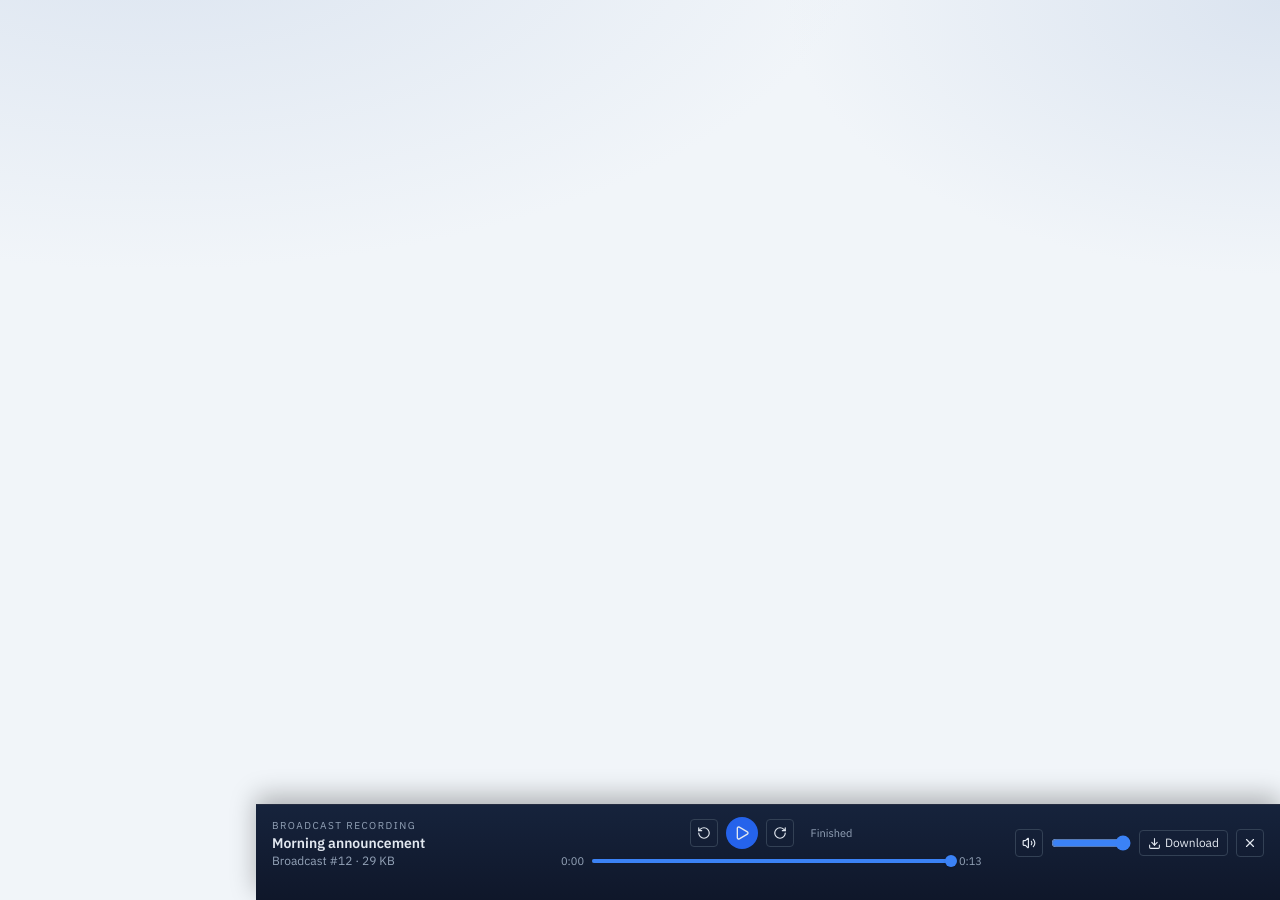
it: seeking away from the end leaves the Finished state
Expected: the button with test id "recording-toggle" is enabled, [726,817,758,849]
Expected: the text with test id "recording-state" reads "Finished", [810,826,852,840]
Set the slider with test id "recording-seek" to "2.0" at (653, 861), box [592,853,951,869]
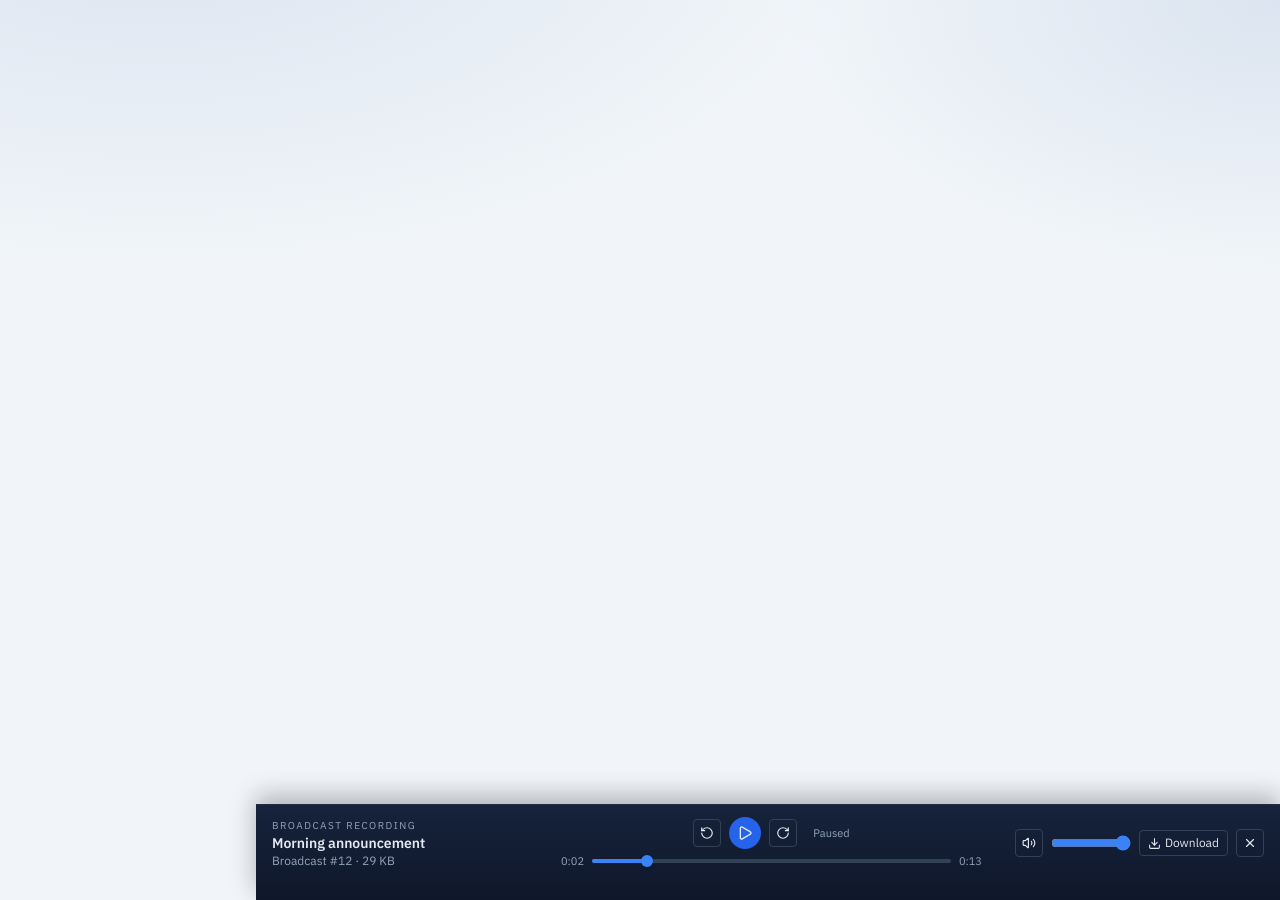
Now the text with test id "recording-state" no longer shows "Finished"
